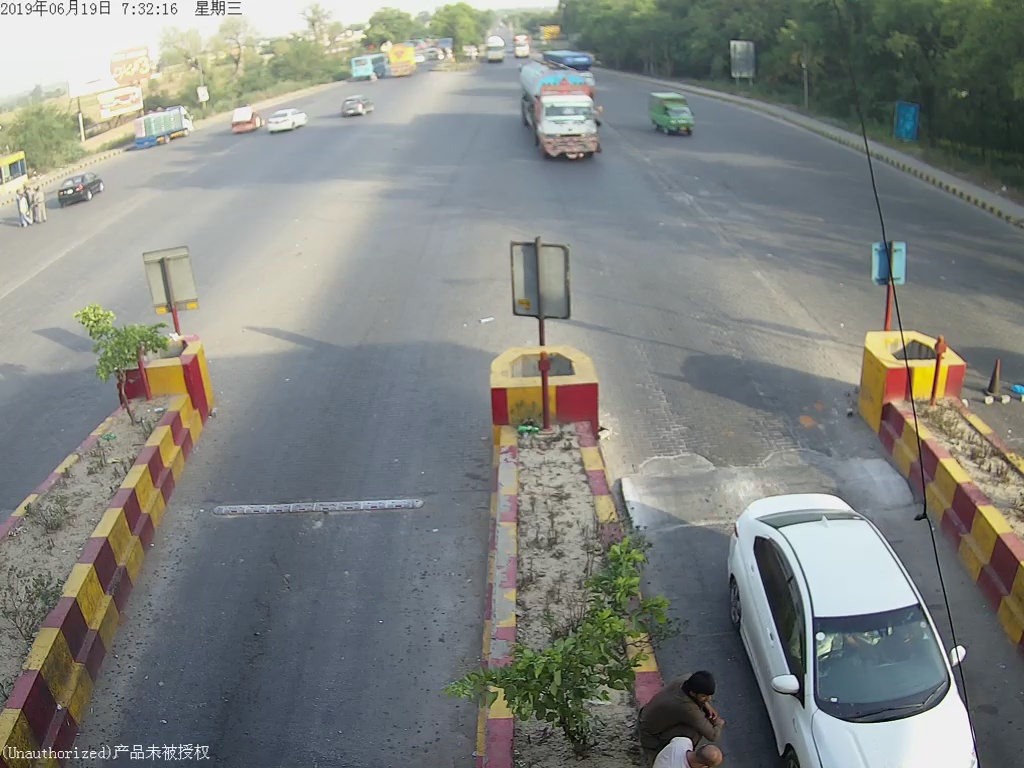Cat-5: (510, 64, 609, 163)
